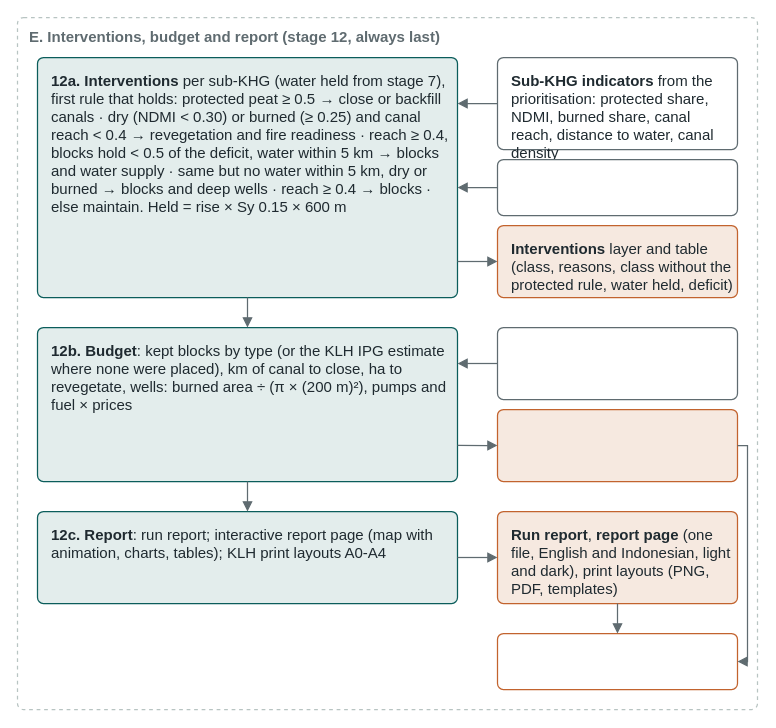
This 776x728 diagram has some shape labels left out. Here are the shapes that lost their labels. From the top down, the centre of each, then its label:
(x=617, y=187): Neraca air map: KHG deficit, monthly balance, SiTMAT stations
(x=617, y=363): Unit prices : low, central, high (Rp), with a register of sources (to verify)
(x=617, y=445): Budget layer and table; register of price sources with status and run value
(x=617, y=661): KLH : plan, budget request, field check of block sites and prices
